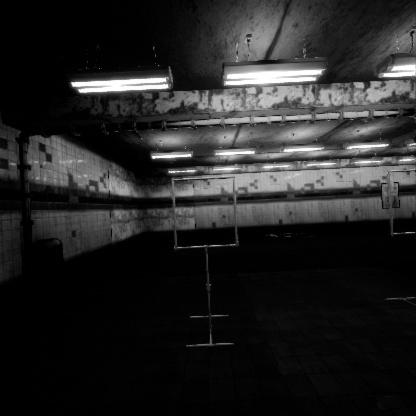gate: (171, 165, 244, 240), (387, 179, 416, 248)
